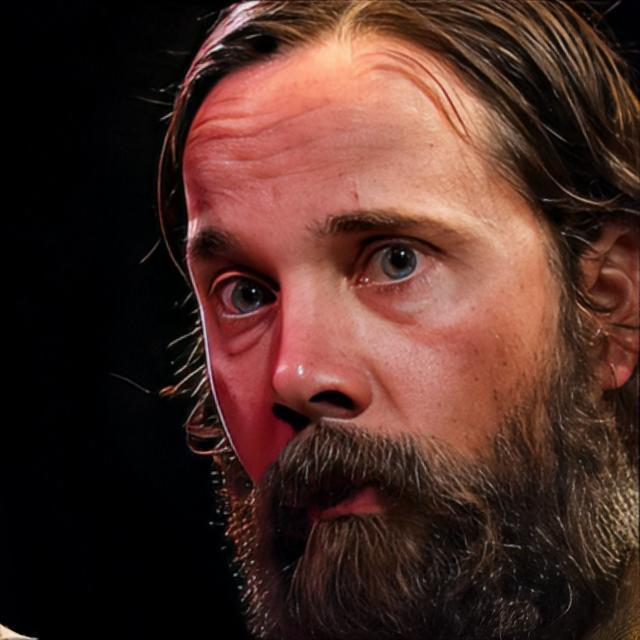fear: (174, 26, 579, 607)
